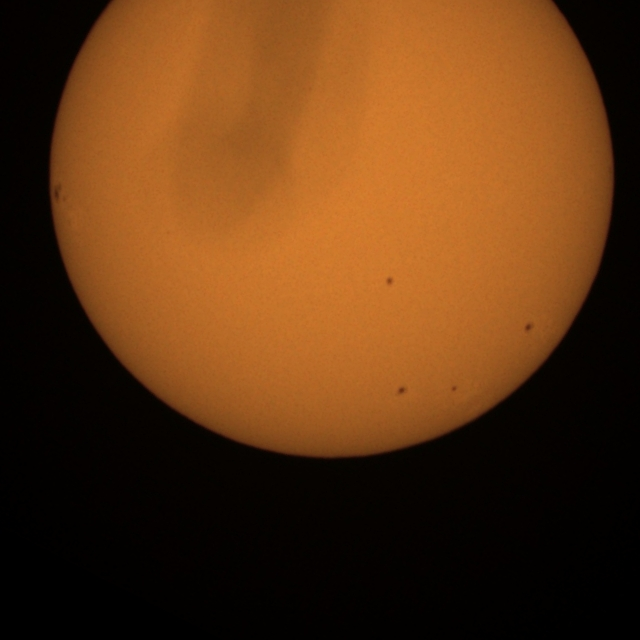sunspot: (52, 181, 68, 205), (523, 322, 535, 334), (396, 385, 408, 397), (384, 276, 395, 288), (451, 384, 458, 393)
